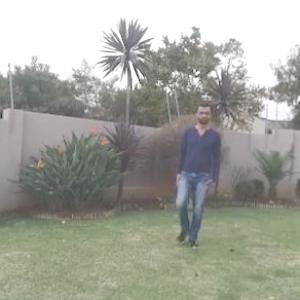follow: (174, 106, 214, 240)
